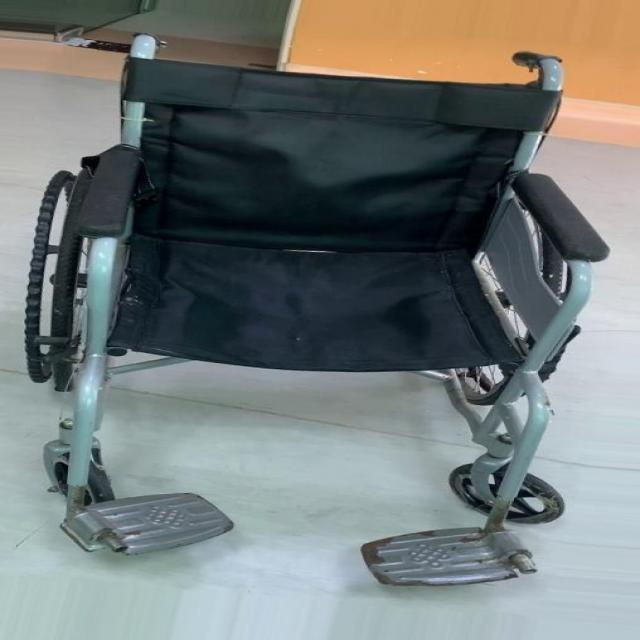wheelchair: (11, 27, 626, 597)
